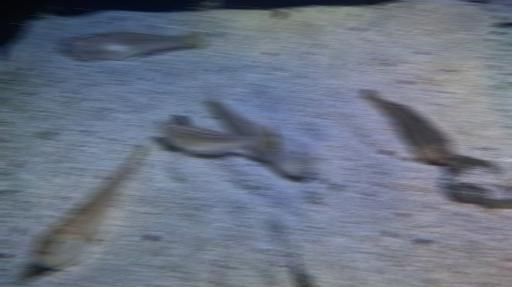Fish: (30, 141, 147, 269), (365, 89, 454, 164), (158, 115, 277, 155), (58, 31, 205, 61), (252, 133, 317, 177), (292, 254, 312, 286)
